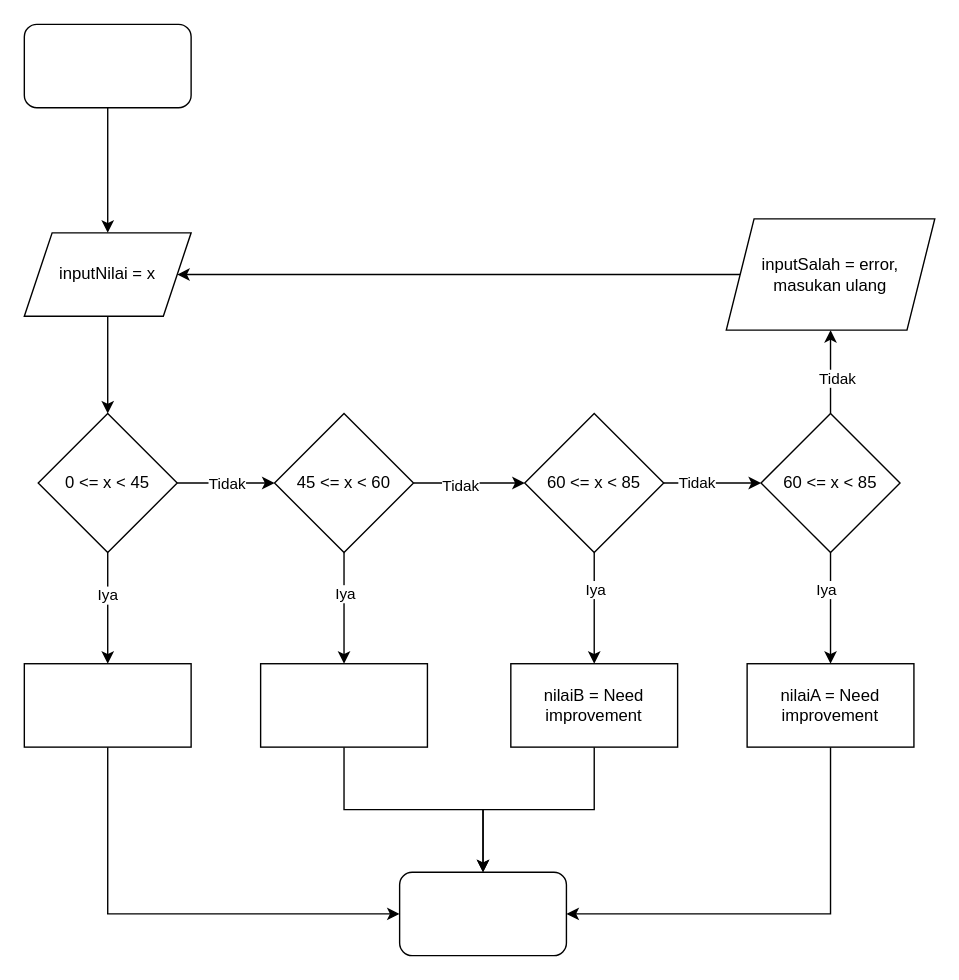
Image size: 959x980. Some labels were removed from this diagram. Here are the shapes that lost their labels. From the top down, the centre of each, then its label:
At (107,65): "Mulai".
At (107,704): "nilaiD = Need improvement".
At (343,704): "nilaiC = Need improvement".
At (482,913): "Selesai".
